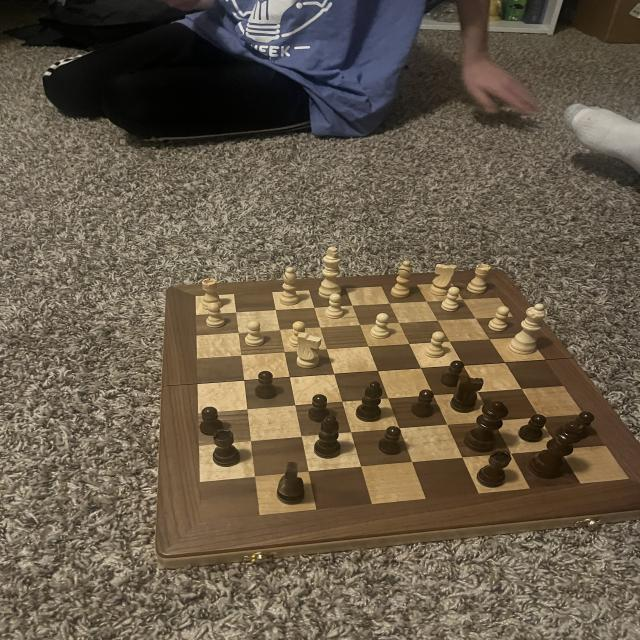bishop: (312, 413, 344, 460), (353, 380, 385, 425)
black-bishop: (524, 420, 588, 481)
black-king: (451, 374, 486, 414), (277, 460, 307, 506)
black-knight: (515, 414, 550, 444), (561, 410, 599, 437), (408, 389, 439, 420), (378, 425, 406, 455), (198, 406, 224, 438), (440, 360, 467, 389), (253, 370, 279, 400), (307, 393, 331, 422)
black-pawn: (458, 398, 511, 456)
black-queen: (474, 449, 514, 490), (209, 429, 241, 470)
black-rook: (389, 258, 417, 298), (280, 265, 301, 306)
white-bishop: (316, 245, 345, 301)
white-king: (293, 332, 325, 371), (428, 262, 460, 297)
white-knight: (422, 331, 449, 359), (486, 304, 512, 332), (369, 311, 394, 340), (203, 302, 227, 330), (242, 320, 265, 348), (287, 320, 310, 348), (439, 286, 462, 313), (324, 293, 346, 320)
white-pawn: (508, 301, 550, 358)
white-queen: (465, 263, 493, 295), (200, 278, 224, 310)
